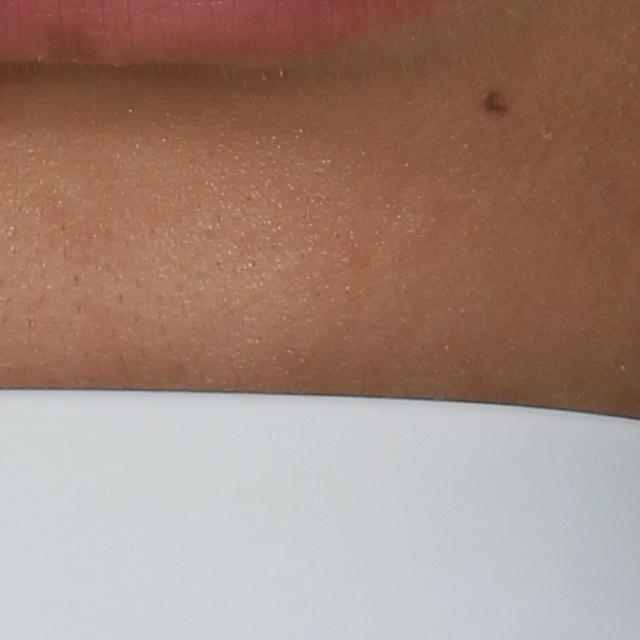nevus: (482, 86, 512, 115)
